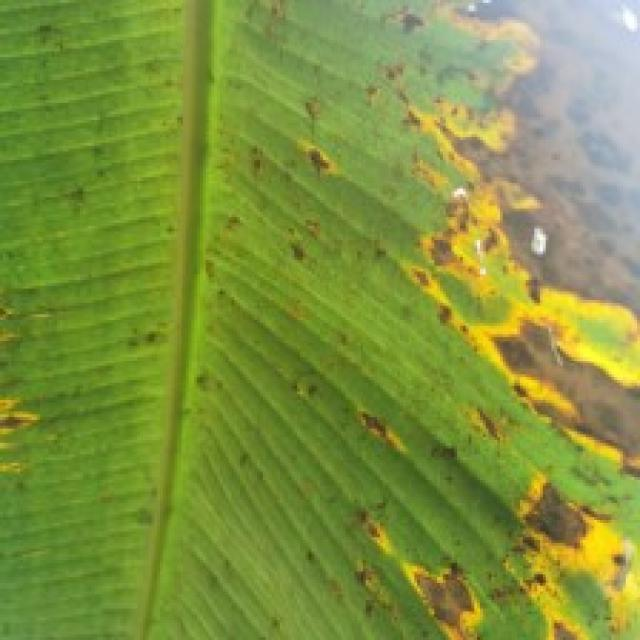Downey_mildrew: (203, 0, 640, 640), (0, 355, 57, 496)
